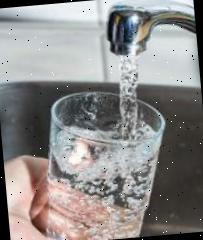glass: (30, 85, 174, 240)
